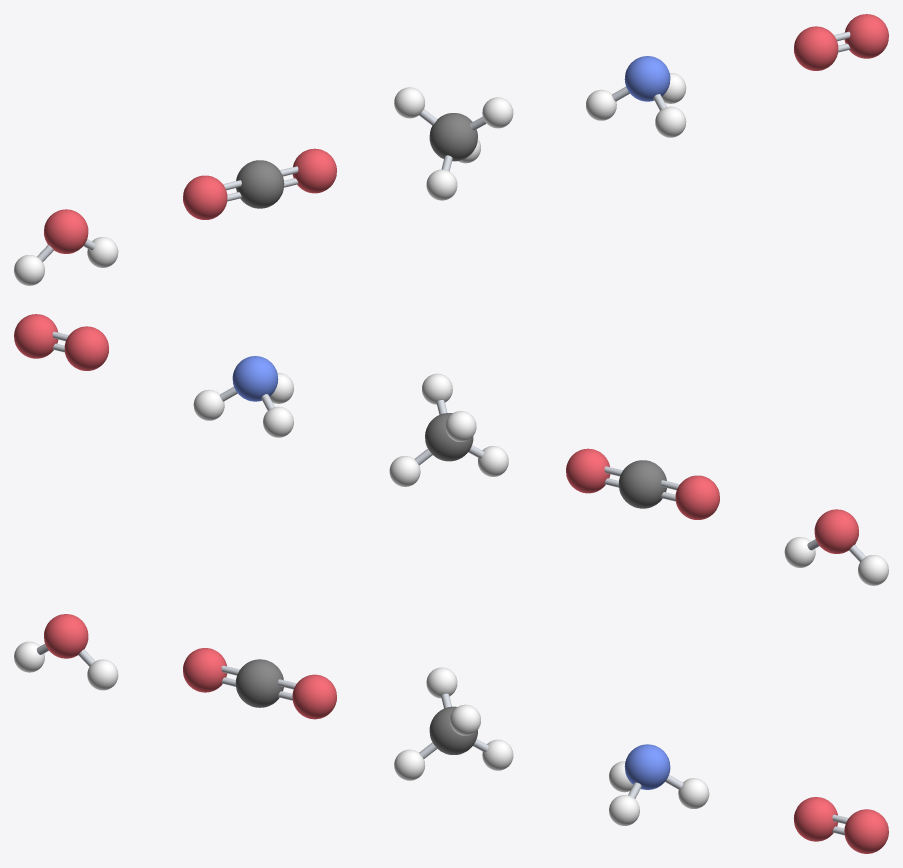
Rendered from molecules.glb.
3 views of the same model, one above another, from view 1: azimuth 30°, elevation 25°; view 2: azimuth 150°, elevation 25°; view 3: azimuth 330°, elevation 25° (orthographic).
Parts seen in each view (by area): view 1: Oxygen, Hydrogen, Carbon, Nitrogen, Bonds; view 2: Oxygen, Hydrogen, Carbon, Nitrogen, Bonds; view 3: Oxygen, Hydrogen, Carbon, Nitrogen, Bonds.
Part boxes in pixels (x1,y1,x2,y2): Oxygen: (44, 14, 888, 253); Hydrogen: (14, 73, 686, 285); Carbon: (236, 113, 477, 208); Nitrogen: (624, 56, 670, 101); Bonds: (37, 31, 850, 261); Oxygen: (14, 314, 858, 553); Hydrogen: (193, 373, 888, 585); Carbon: (425, 413, 666, 508); Nitrogen: (232, 356, 278, 401); Bonds: (52, 331, 865, 561); Oxygen: (44, 614, 888, 853); Hydrogen: (14, 641, 709, 825); Carbon: (235, 659, 477, 754); Nitrogen: (624, 744, 670, 789); Bonds: (36, 644, 848, 835).
Bounding box in the file's own units: 20.65 × 1.98 × 2.25.
